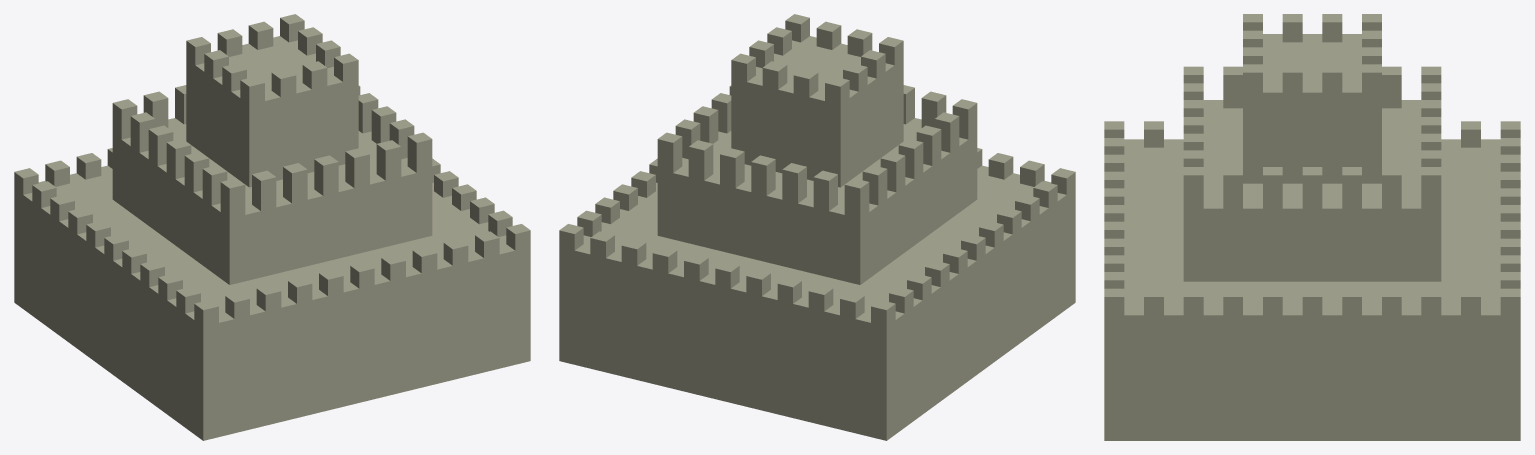
File: castle.fbx
The picture shows the model from 3 angles, left to right: view 1: azimuth 30°, elevation 25°; view 2: azimuth 150°, elevation 25°; view 3: azimuth 270°, elevation 25°; orthographic projection. The views are drawn at different scales.
Visible parts, largest first — view 1: pCube1; view 2: pCube1; view 3: pCube1.
Boxes of the visible parts, bbox=[...] form: pCube1: bbox=[14, 14, 530, 440]; pCube1: bbox=[559, 14, 1075, 440]; pCube1: bbox=[1104, 14, 1520, 440].
Size of the model in its own units: 600 by 493 by 600.
